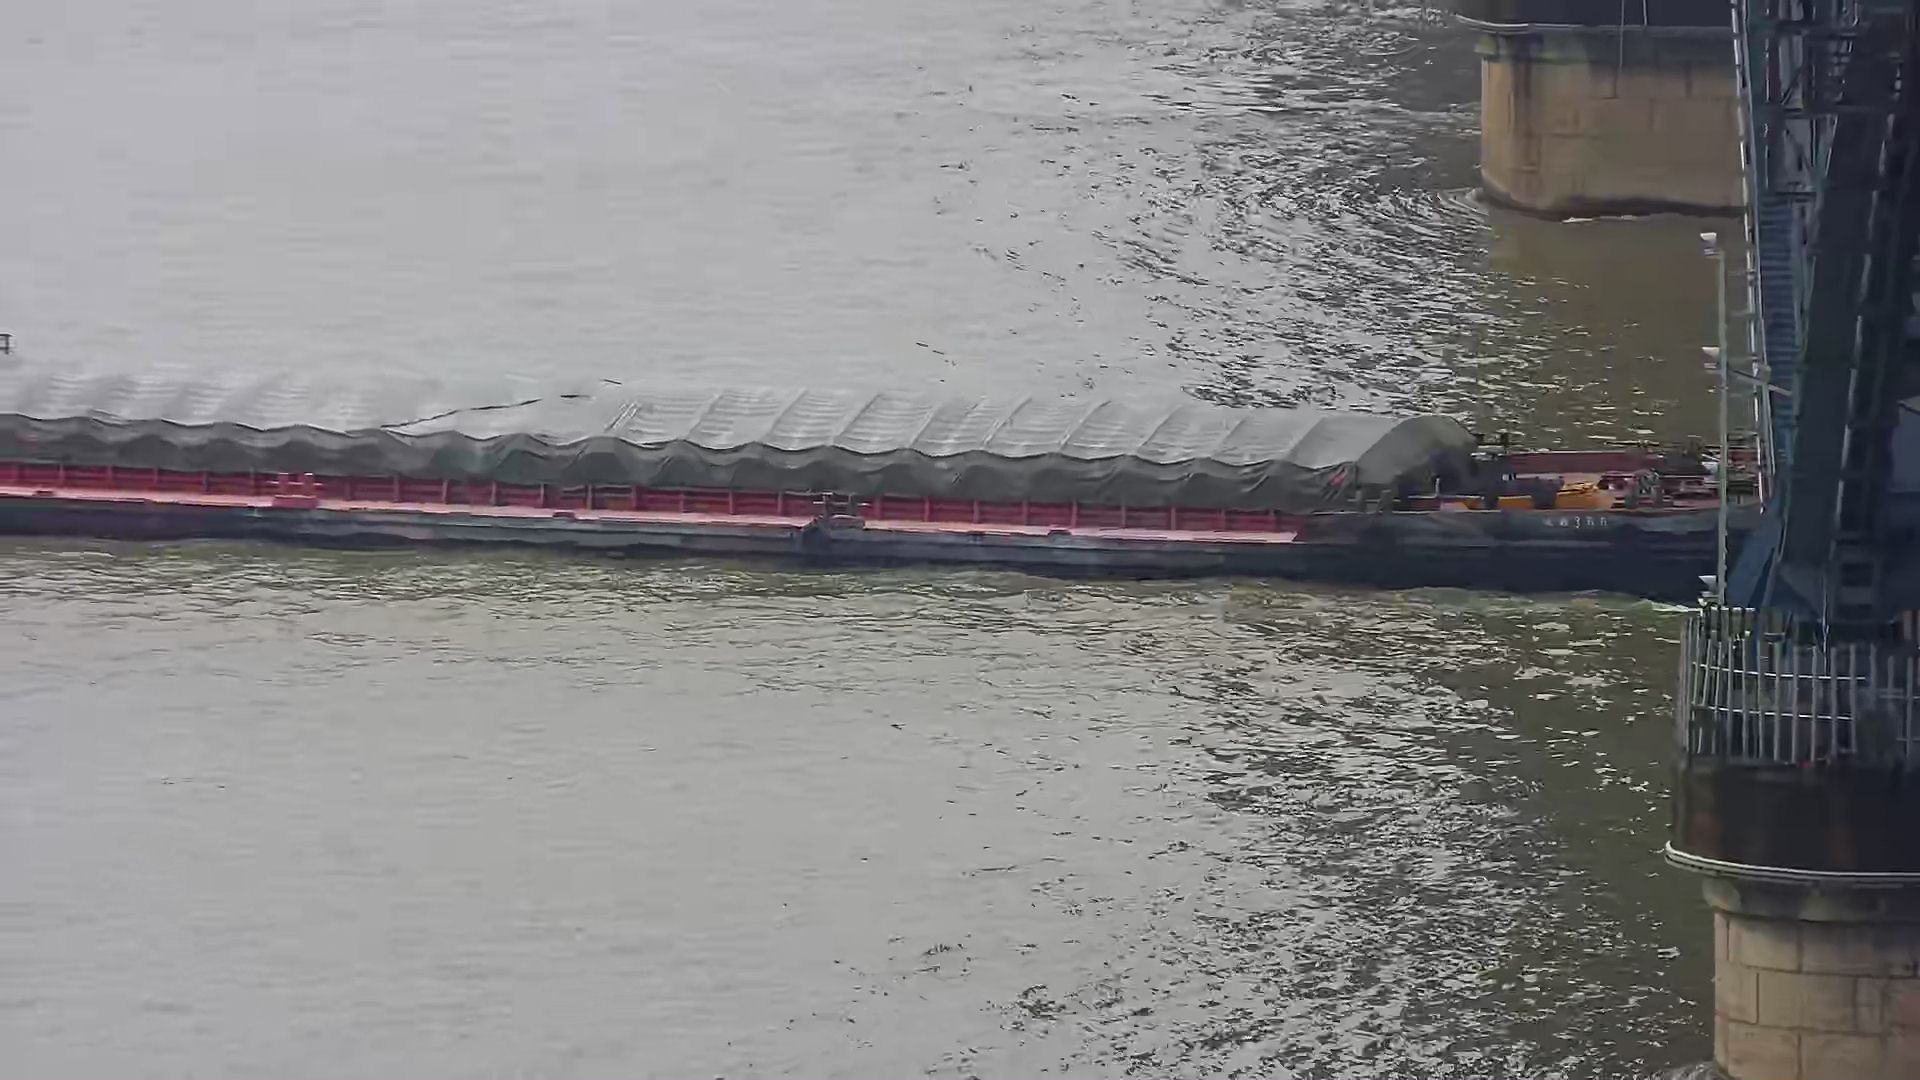bridge: (1437, 5, 1920, 1080)
ship: (4, 324, 1784, 582)
